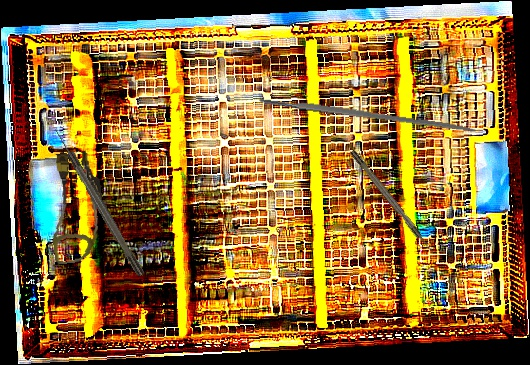Cannula: (42, 149, 110, 265)
Hook Surgical: (52, 126, 145, 278), (349, 148, 436, 256)
Scalpel Handle: (257, 94, 477, 135)
